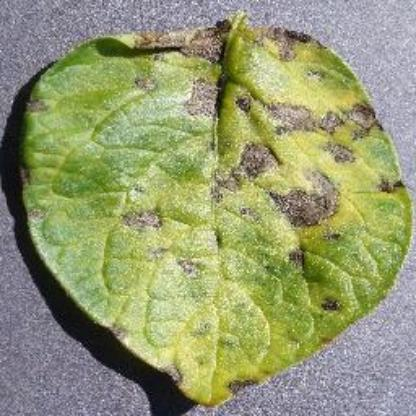Early-Blight: (17, 10, 413, 406)
